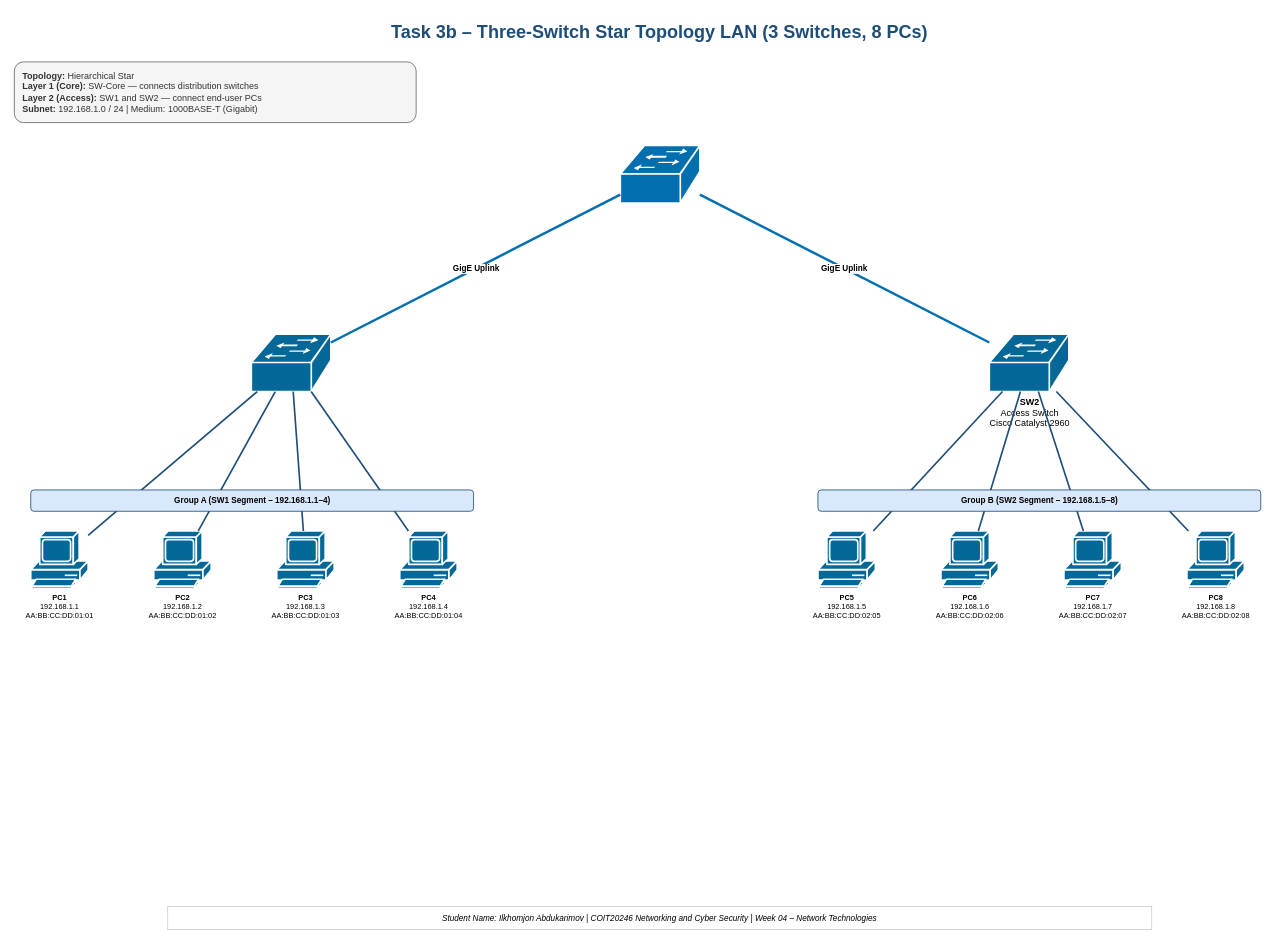
Image size: 1275x944. Some labels were removed from this diagram. Each missing label, with the centre of its shape:
"SW-Core Core / Distribution Switch Cisco Catalyst 3750" goes at pixel 659 173.
"SW1 Access Switch Cisco Catalyst 2960" goes at pixel 290 362.
